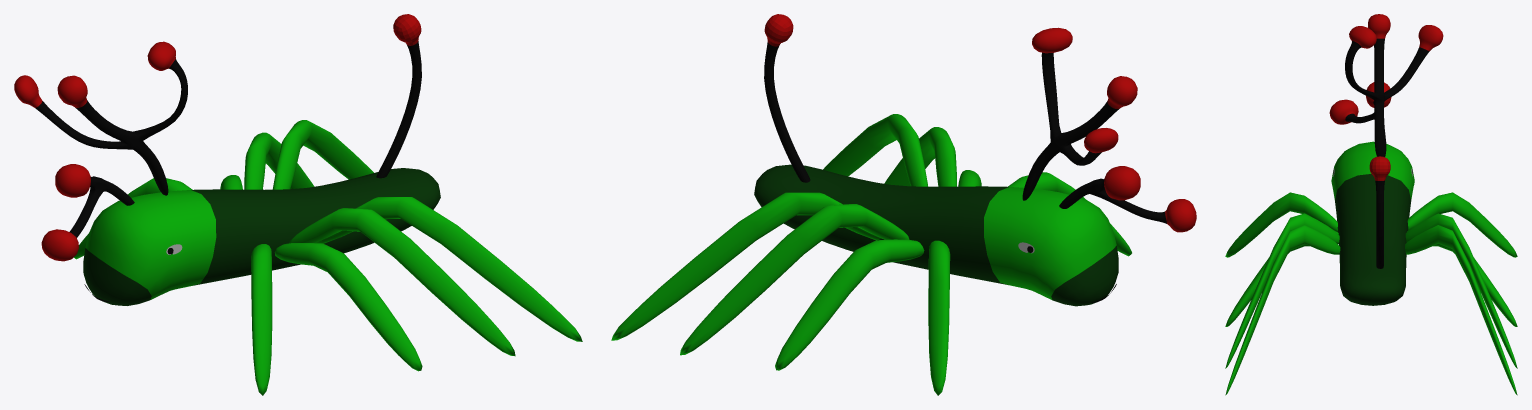
File: grasshopper-1.obj
3 views of the same model, side by side, from view 1: azimuth 30°, elevation 25°; view 2: azimuth 150°, elevation 25°; view 3: azimuth 270°, elevation 25° (orthographic). The views are drawn at different scales.
Parts seen in each view (by area): view 1: Grasshopper_Cube.4117; view 2: Grasshopper_Cube.4117; view 3: Grasshopper_Cube.4117.
Part boxes in pixels (left/top/right/bottom): Grasshopper_Cube.4117: left=14, top=14, right=582, bottom=395; Grasshopper_Cube.4117: left=611, top=14, right=1196, bottom=395; Grasshopper_Cube.4117: left=1225, top=14, right=1517, bottom=395.
Bounding box in the file's own units: 2.04 × 1.33 × 1.45.
